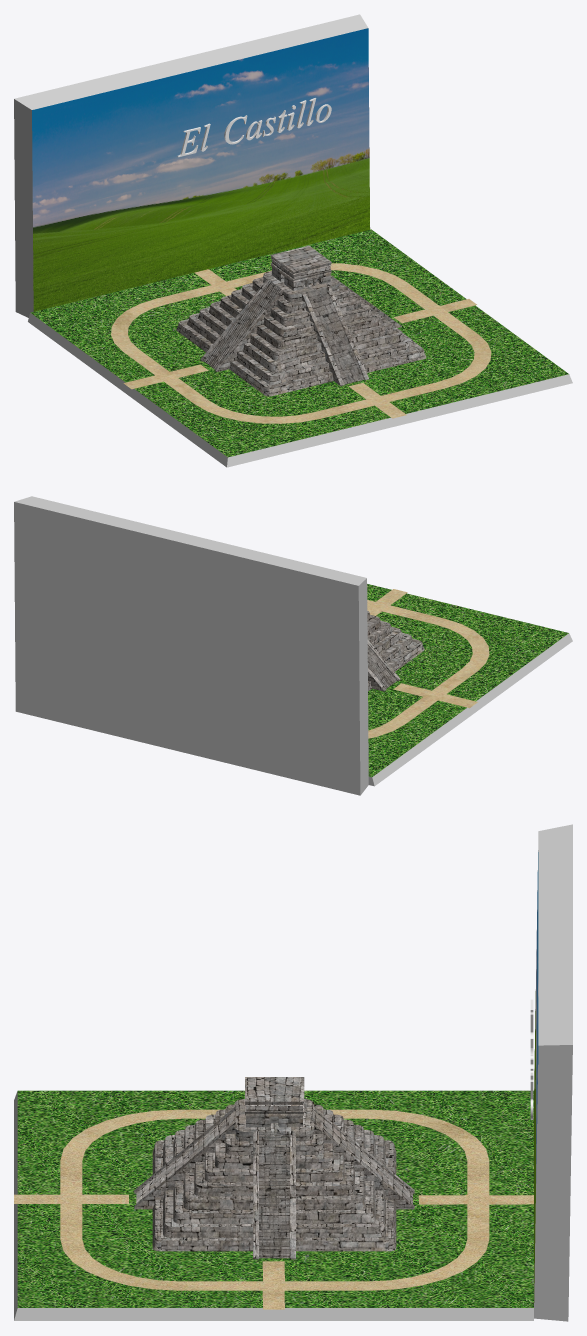
The model's file is chichen-itza.glb.
The picture shows the model from 3 angles, top to bottom: view 1: azimuth 30°, elevation 25°; view 2: azimuth 150°, elevation 25°; view 3: azimuth 270°, elevation 25°; orthographic projection. The views are drawn at different scales.
Parts seen in each view (by area): view 1: Background, Plane, El_Castillo, Pathway, Text; view 2: Background, Plane, Pathway, El_Castillo; view 3: Plane, El_Castillo, Background, Pathway.
Boxes of the visible parts, bbox=[...] form: Background: bbox=[14, 14, 370, 317]; Plane: bbox=[28, 229, 572, 467]; El_Castillo: bbox=[176, 245, 426, 396]; Pathway: bbox=[111, 263, 491, 423]; Text: bbox=[177, 98, 331, 157]; Background: bbox=[14, 496, 368, 795]; Plane: bbox=[367, 584, 572, 786]; Pathway: bbox=[367, 589, 489, 738]; El_Castillo: bbox=[367, 611, 424, 691]; Plane: bbox=[14, 1090, 533, 1320]; El_Castillo: bbox=[134, 1077, 414, 1259]; Background: bbox=[534, 824, 572, 1321]; Pathway: bbox=[14, 1109, 533, 1309].
Size of the model in its own units: 141 by 82.37 by 151.
6 materials, 4 textured.
